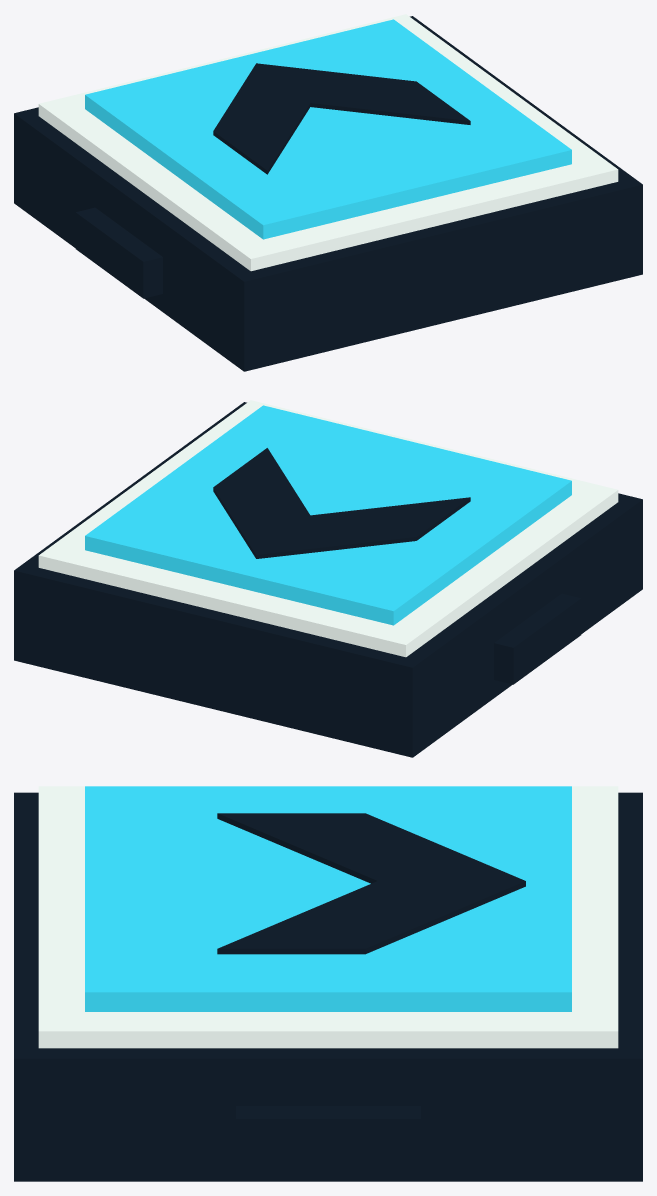
The model's file is pickup-xp.glb.
The picture shows the model from 3 angles, top to bottom: view 1: azimuth 30°, elevation 25°; view 2: azimuth 150°, elevation 25°; view 3: azimuth 270°, elevation 25°; orthographic projection. The views are drawn at different scales.
Visible parts, largest first — view 1: pickup-xp-pickup-xp-geometry; view 2: pickup-xp-pickup-xp-geometry; view 3: pickup-xp-pickup-xp-geometry.
Boxes of the visible parts, x1,y1,x2,y2 form: pickup-xp-pickup-xp-geometry: (14, 14, 642, 371); pickup-xp-pickup-xp-geometry: (14, 400, 642, 757); pickup-xp-pickup-xp-geometry: (14, 786, 642, 1181).
Size of the model in its own units: 1.12 by 0.3 by 1.02.
